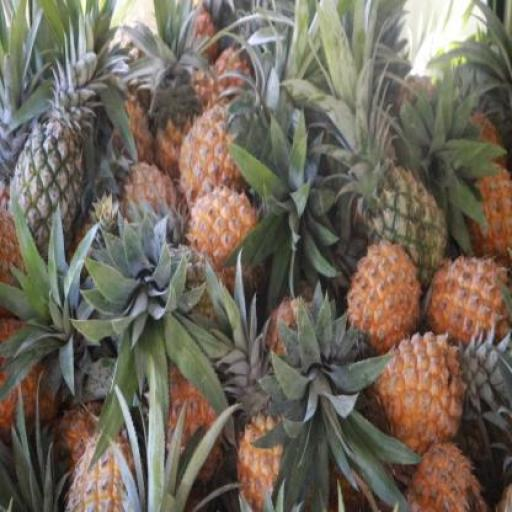Pineapple - v8 v1: (376, 324, 462, 446), (349, 236, 426, 350), (428, 258, 512, 355), (180, 104, 251, 206), (185, 191, 258, 280)
